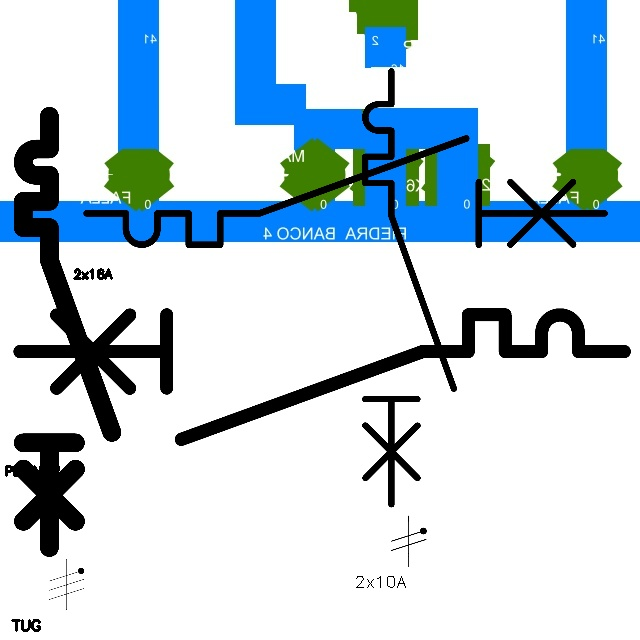interruptor_termomagnetico: (4, 299, 640, 454), (73, 125, 618, 258), (354, 60, 465, 515), (12, 105, 123, 558)
